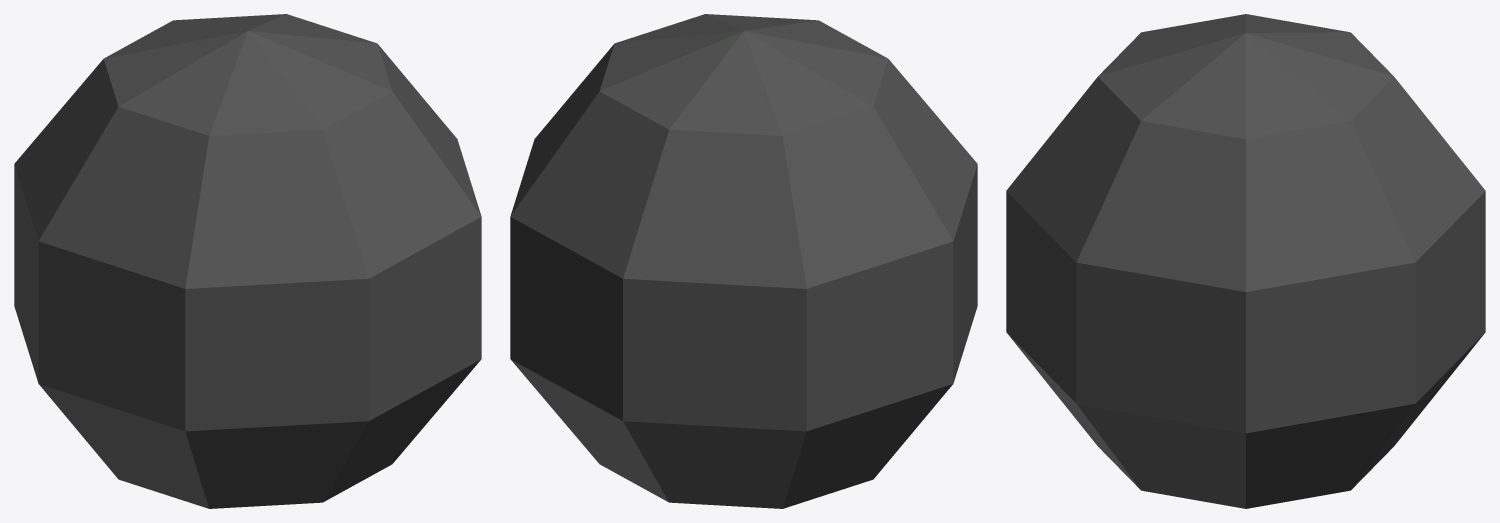
Rendered from WalkParticle.fbx.
The picture shows the model from 3 angles, left to right: view 1: azimuth 30°, elevation 25°; view 2: azimuth 150°, elevation 25°; view 3: azimuth 270°, elevation 25°; orthographic projection.
Parts seen in each view (by area): view 1: Sphere; view 2: Sphere; view 3: Sphere.
Boxes of the visible parts, left/top/right/bottom form: Sphere: left=14, top=14, right=481, bottom=508; Sphere: left=510, top=14, right=977, bottom=508; Sphere: left=1006, top=14, right=1485, bottom=508.
Bounding box in the file's own units: 9.51 × 10 × 9.51.
